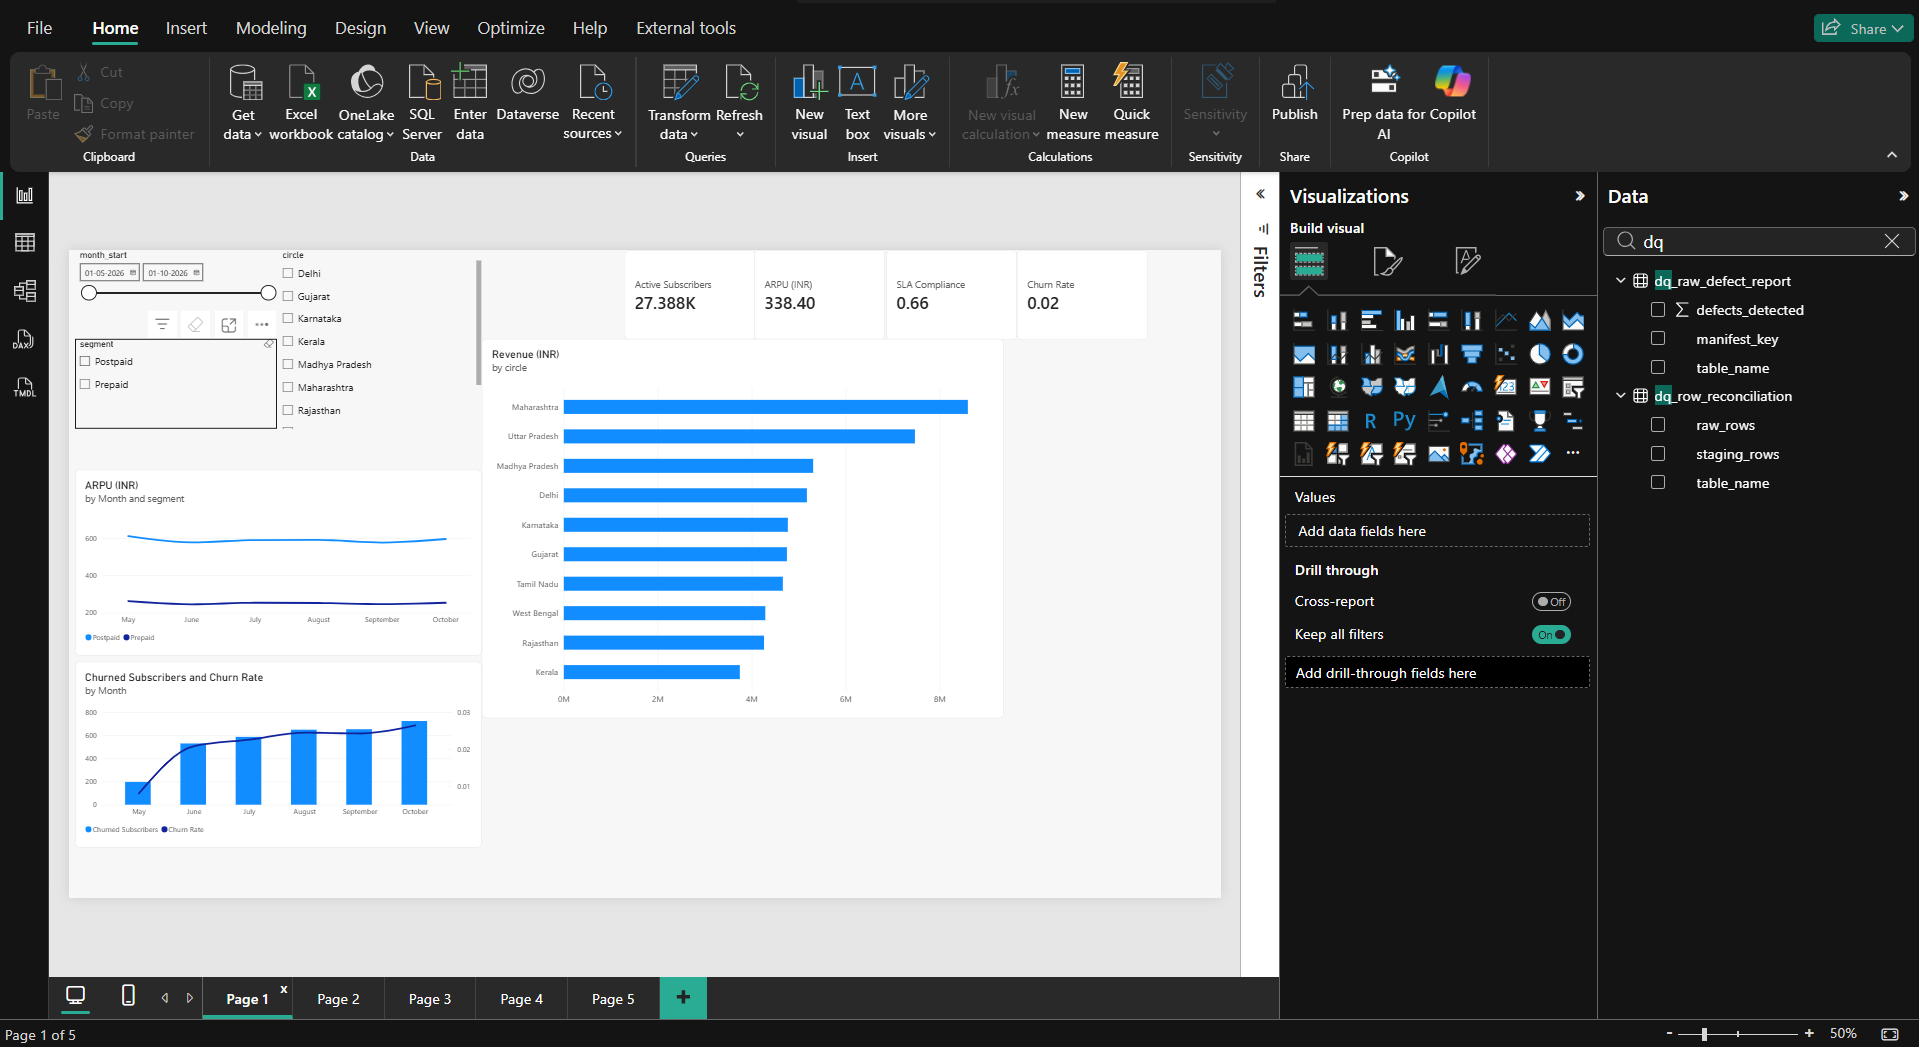

The page's visual inventory and layout, read from the dashboard file:
{"tool":"powerbi","page":{"name":"Page 1","canvas":[1920,1080],"ordinal":0},"visuals":[{"type":"slicer","fields":{"Values":["Months.month_start"]},"box":[9.6,0,338.8,148.2],"z":0},{"type":"slicer","fields":{"Values":["Segments.segment"]},"box":[9.6,148.2,339,150],"z":1},{"type":"slicer","fields":{"Values":["Circles.circle"]},"box":[348.4,0,338.8,298.4],"z":2},{"type":"cardVisual","fields":{"Data":["_Measures.Active Subscribers"]},"box":[925,0,218.6,150],"z":3},{"type":"cardVisual","fields":{"Data":["_Measures.SLA Compliance"]},"box":[1362.5,0,218.6,150],"z":4},{"type":"cardVisual","fields":{"Data":["_Measures.Churn Rate"]},"box":[1580,0,218.6,150],"z":5},{"type":"cardVisual","fields":{"Data":["_Measures.ARPU (INR)"]},"box":[1142.5,0,218.6,150],"z":7},{"type":"lineChart","fields":{"Category":["Months.month_start.Variation.Date Hierarchy.Month"],"Series":["Segments.segment"],"Y":["_Measures.ARPU (INR)"]},"box":[10,365,677.5,310],"z":8},{"type":"lineClusteredColumnComboChart","fields":{"Category":["Months.month_start.Variation.Date Hierarchy.Month"],"Y":["_Measures.Churned Subscribers"],"Y2":["_Measures.Churn Rate"]},"box":[10,685,677.5,310],"z":9},{"type":"barChart","fields":{"Category":["Circles.circle"],"Y":["_Measures.Revenue (INR)"]},"box":[687.5,147.5,870,632.5],"z":10}]}

Visuals, with their boxes on the page's 1920x1080 design canvas (x1, y1, x2, y2). These are canvas units, not pixel positions in the 1919x1047 screenshot, which may show the page scaled, cropped or inside an application window:
slicer - Months.month_start: detection(10, 0, 348, 148)
slicer - Segments.segment: detection(10, 148, 349, 298)
slicer - Circles.circle: detection(348, 0, 687, 298)
cardVisual - _Measures.Active Subscribers: detection(925, 0, 1144, 150)
cardVisual - _Measures.SLA Compliance: detection(1362, 0, 1581, 150)
cardVisual - _Measures.Churn Rate: detection(1580, 0, 1799, 150)
cardVisual - _Measures.ARPU (INR): detection(1142, 0, 1361, 150)
lineChart - Months.month_start.Variation.Date Hierarchy.Month x Segments.segment: detection(10, 365, 688, 675)
lineClusteredColumnComboChart - Months.month_start.Variation.Date Hierarchy.Month x _Measures.Churned Subscribers: detection(10, 685, 688, 995)
barChart - Circles.circle x _Measures.Revenue (INR): detection(688, 148, 1558, 780)
